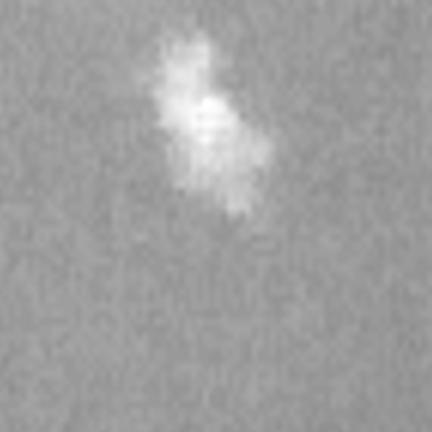flukeprints: (144, 32, 271, 212)
